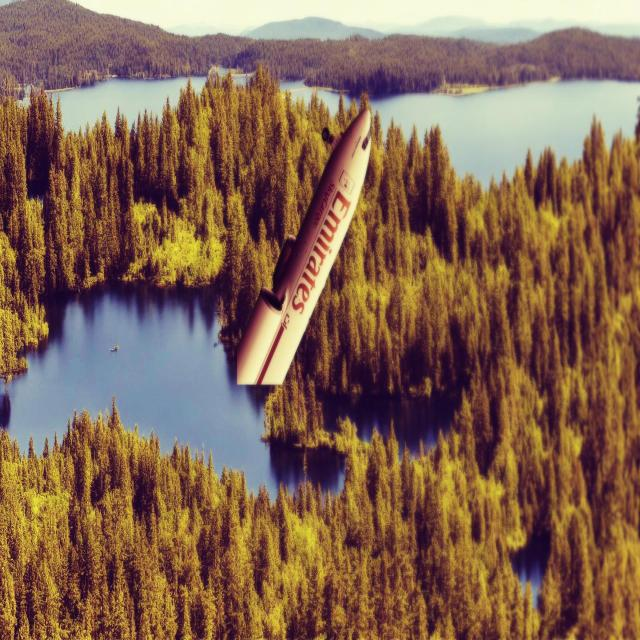airplane: (235, 105, 372, 386)
